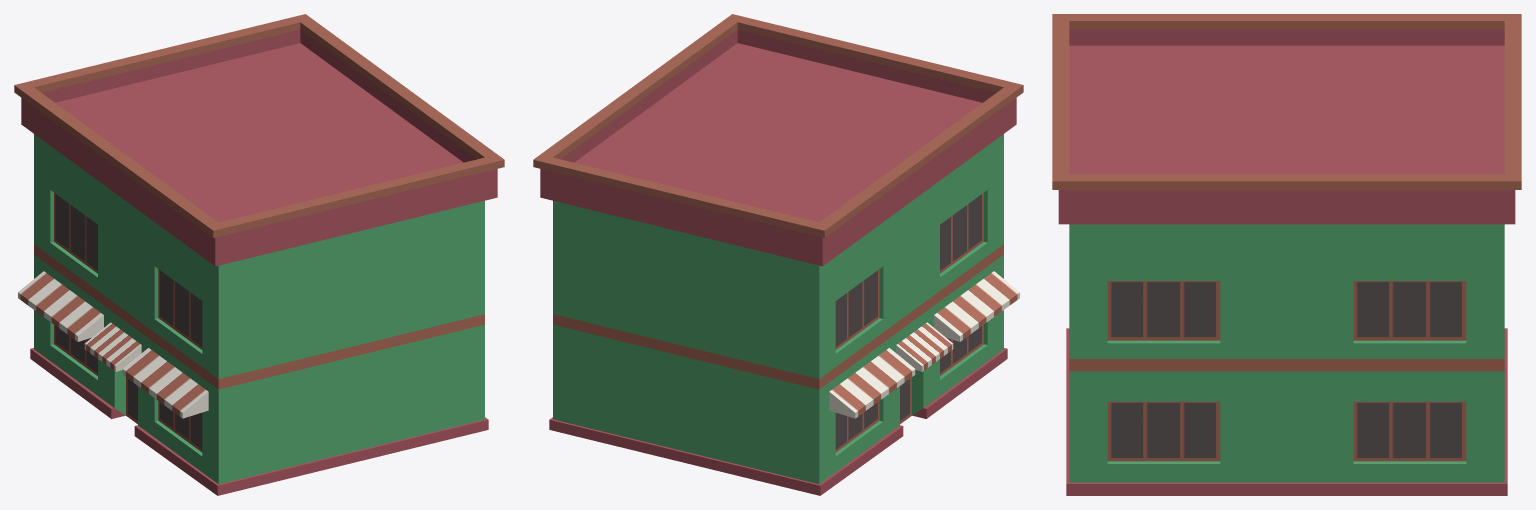
File: house1.fbx
3 renders of one model, left to right at view 1: azimuth 30°, elevation 25°; view 2: azimuth 150°, elevation 25°; view 3: azimuth 270°, elevation 25°, orthographic. The views are drawn at different scales.
Visible parts, largest first — view 1: sptp_building_02; view 2: sptp_building_02; view 3: sptp_building_02.
Boxes of the visible parts, left/top/right/bottom form: sptp_building_02: left=14, top=14, right=504, bottom=495; sptp_building_02: left=533, top=14, right=1023, bottom=495; sptp_building_02: left=1052, top=14, right=1521, bottom=495.
Size of the model in its own units: 953 by 812 by 1078.
1 material, 1 textured.
